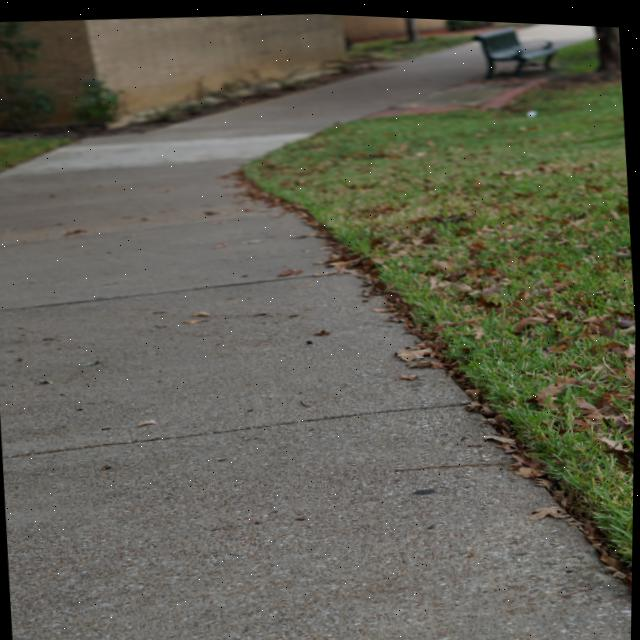Obstacle: (474, 24, 557, 74)
Sidewalk: (0, 38, 633, 640), (520, 19, 593, 41)
